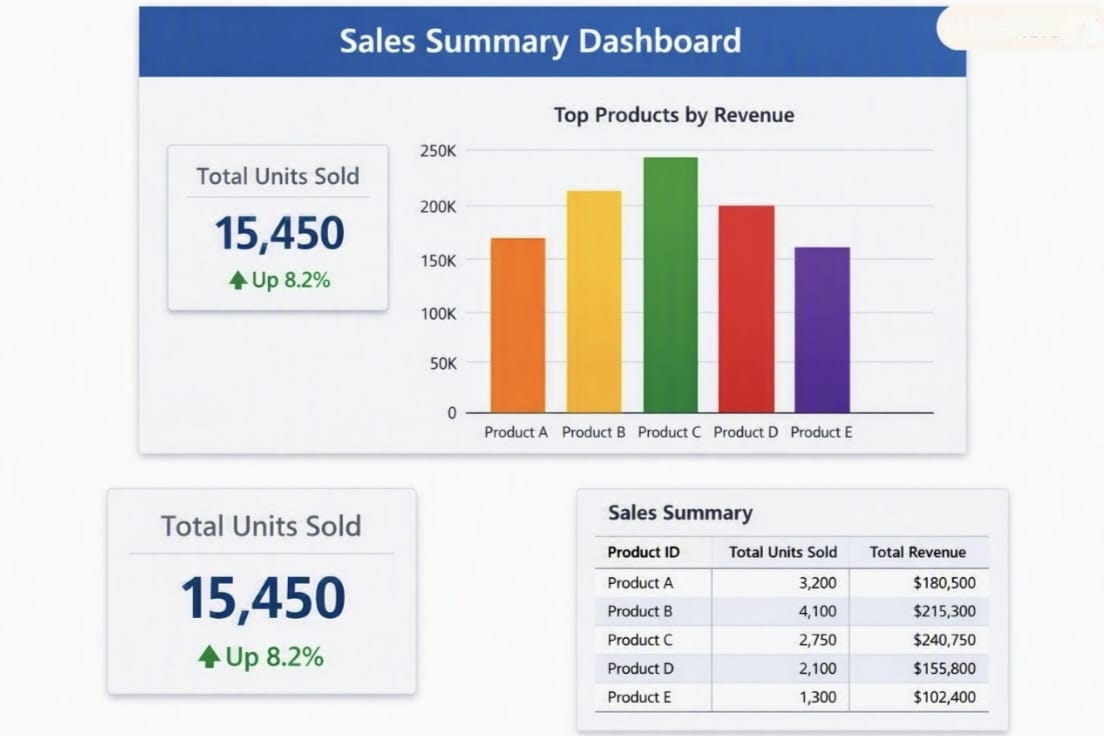

Layout of this report page (visuals, bound fields, positions):
{"tool":"powerbi","page":{"name":"Page 1","canvas":[1280,720],"ordinal":0},"visuals":[{"type":"image","box":[0,0,407.1,514.3],"z":0},{"type":"image","box":[314.3,345.7,512.9,374.3],"z":1},{"type":"image","box":[714.3,0,565.7,417.1],"z":2}]}

Visuals, with their boxes on the page's 1280x720 design canvas (x1, y1, x2, y2). These are canvas units, not pixel positions in the 1104x736 screenshot, which may show the page scaled, cropped or inside an application window:
image: detection(0, 0, 407, 514)
image: detection(314, 346, 827, 720)
image: detection(714, 0, 1280, 417)
